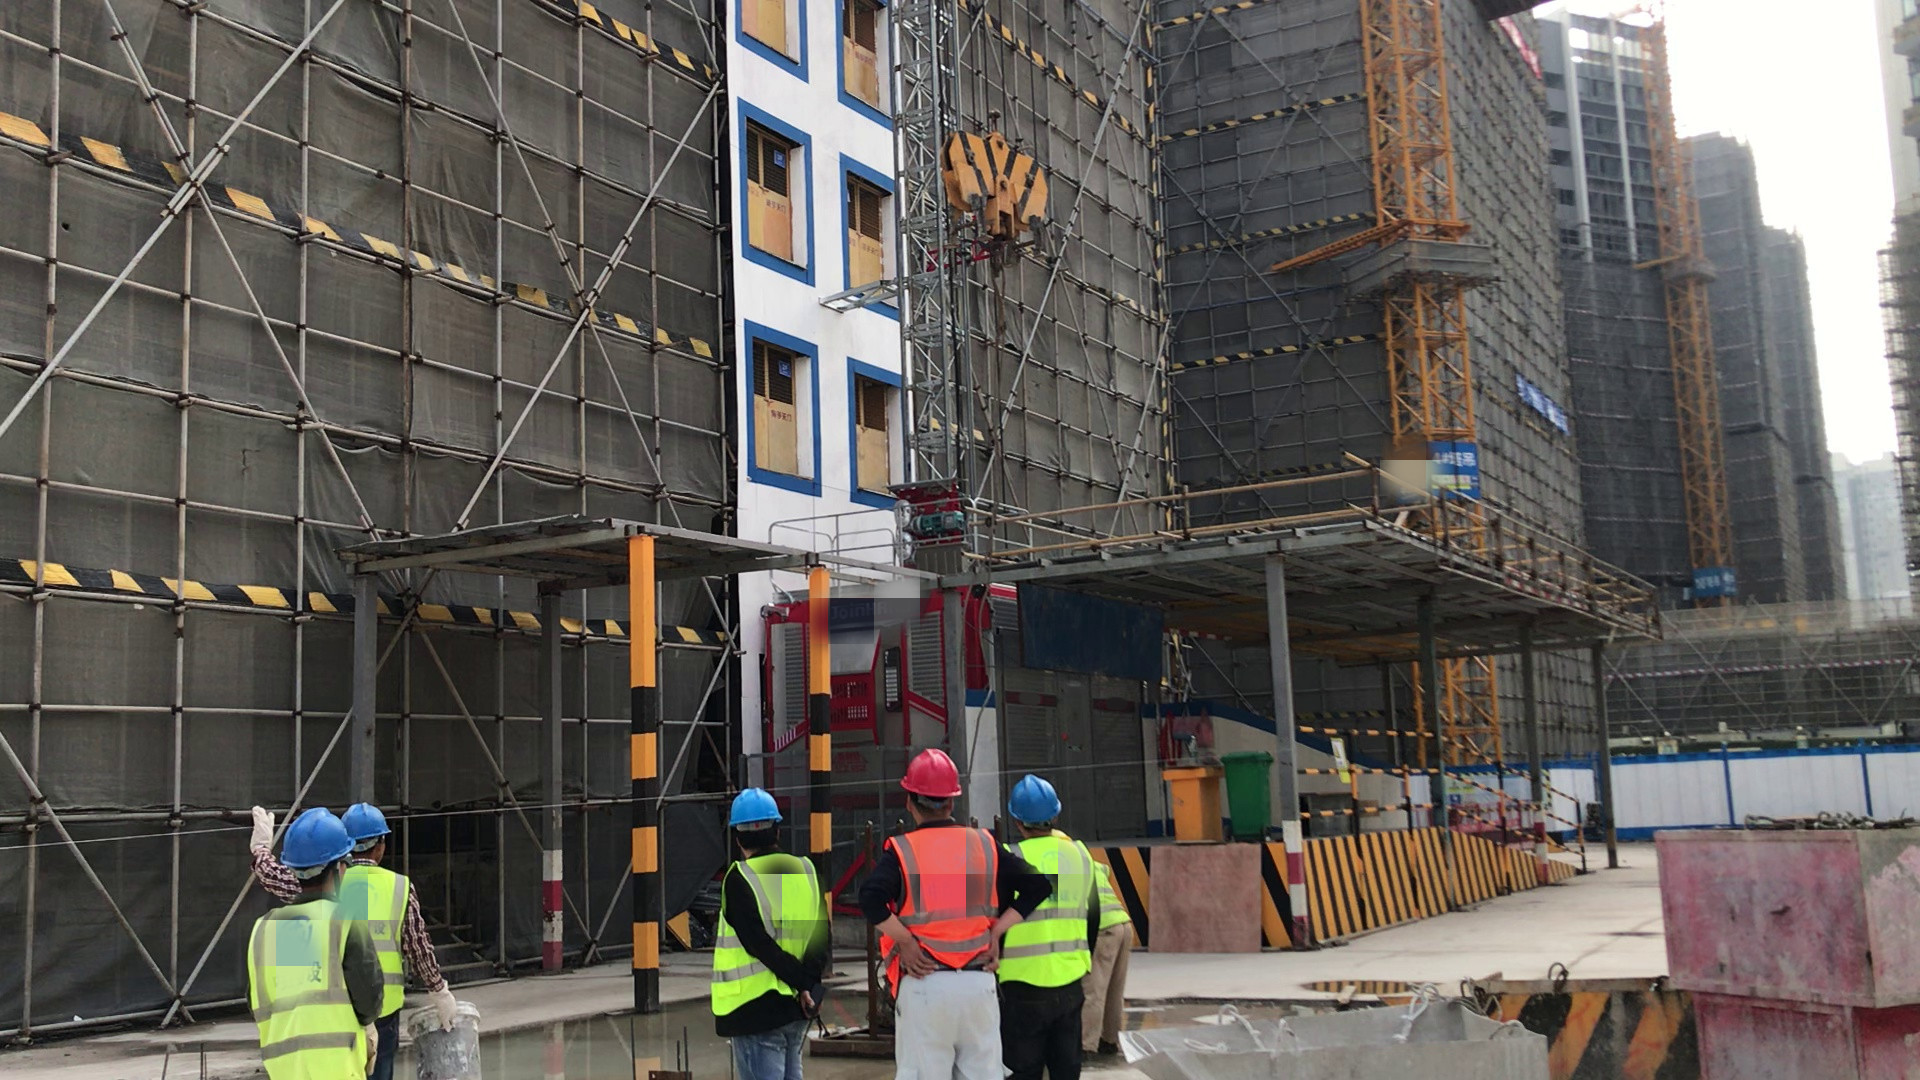helmet: (272, 805, 358, 876), (895, 743, 977, 807), (1000, 762, 1069, 829), (729, 782, 791, 833), (339, 792, 398, 845)
person: (888, 748, 1004, 1080), (267, 795, 398, 1080), (711, 780, 833, 1080), (341, 795, 467, 1080), (997, 769, 1094, 1080), (1088, 844, 1138, 1073)
vest: (713, 847, 827, 1044), (248, 907, 376, 1080), (886, 827, 1003, 1007), (999, 838, 1088, 1002), (347, 865, 410, 1024), (1086, 863, 1133, 936)
